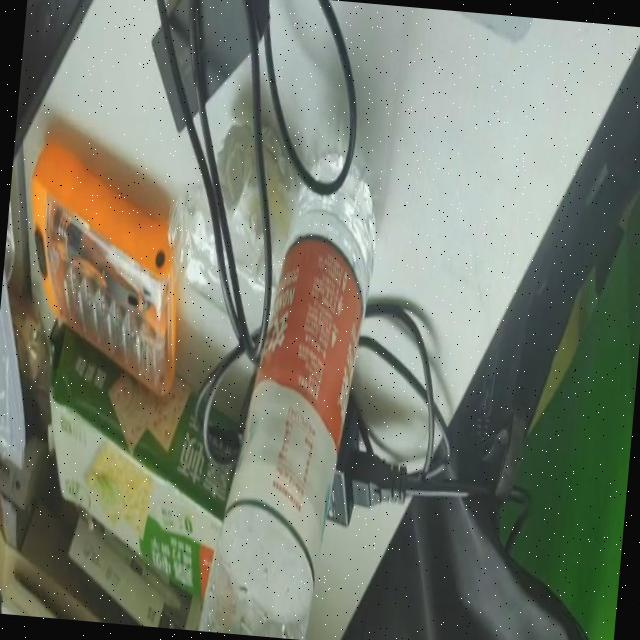bottle: (197, 137, 387, 640)
label: (230, 228, 368, 576)
